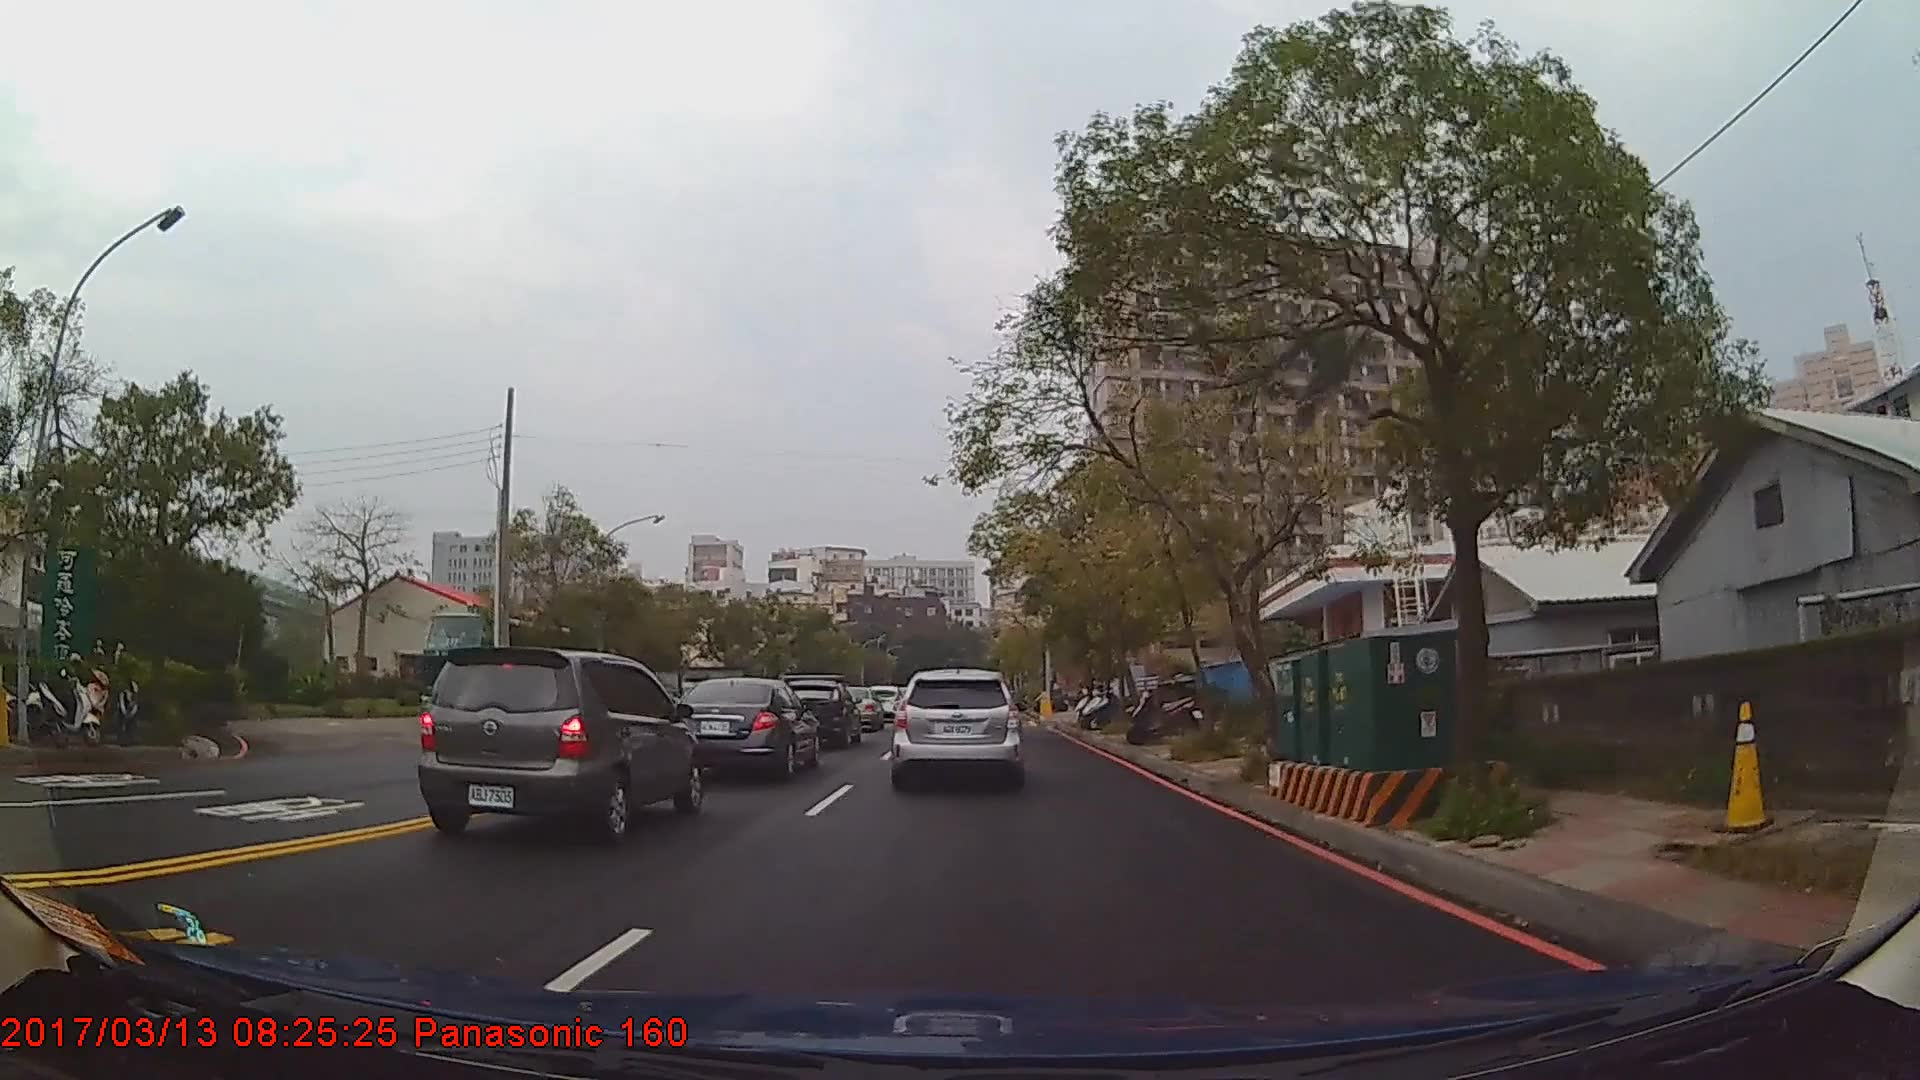vehicle: (414, 649, 704, 851), (425, 611, 599, 724), (667, 679, 822, 781), (891, 671, 1023, 789), (775, 679, 858, 746), (831, 686, 884, 732)
